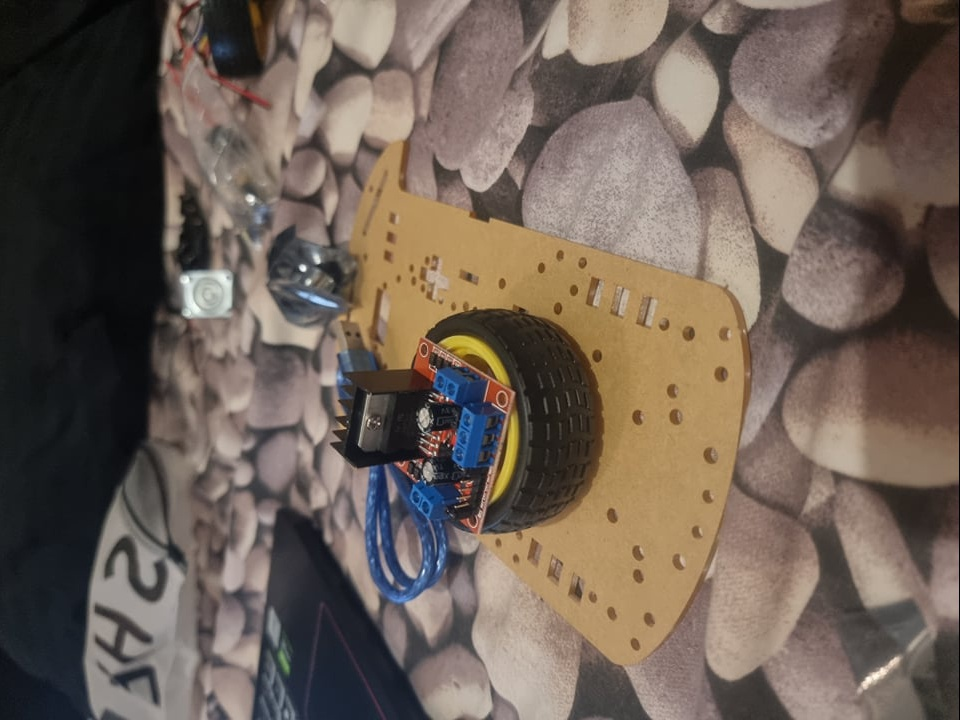MOTOR: (330, 338, 519, 535)
